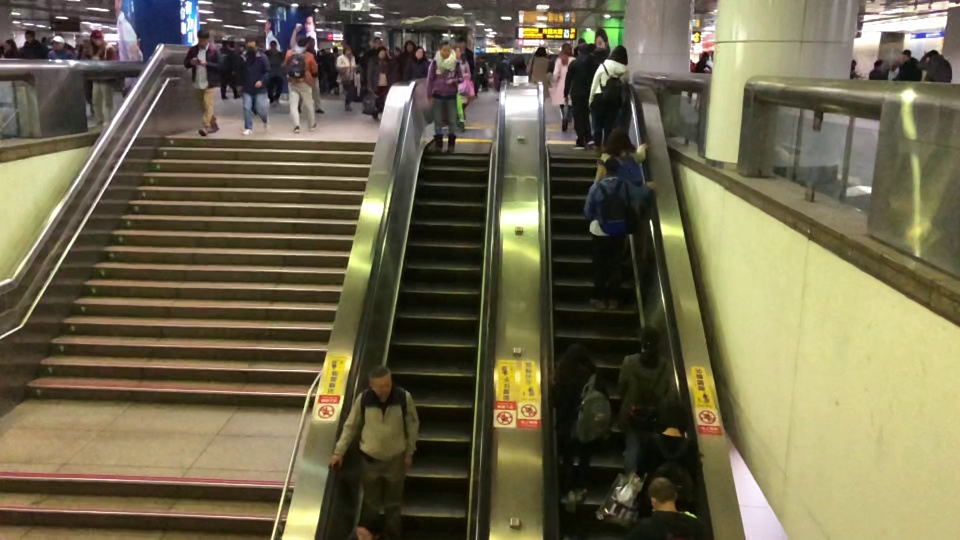person_head: (645, 474, 680, 512), (660, 395, 689, 437), (351, 509, 382, 539), (367, 363, 392, 400), (601, 126, 633, 154), (562, 343, 593, 370), (637, 324, 660, 350), (596, 156, 621, 178), (607, 44, 628, 64), (590, 45, 609, 63), (196, 27, 210, 48), (50, 35, 67, 52), (89, 29, 105, 47), (243, 32, 258, 51), (437, 39, 451, 58), (294, 34, 309, 49), (576, 40, 588, 58), (559, 42, 572, 57), (926, 48, 939, 63), (413, 44, 424, 60), (23, 29, 36, 42), (376, 46, 387, 61), (534, 46, 546, 58), (901, 49, 912, 62), (873, 57, 883, 70), (342, 44, 352, 56), (269, 39, 278, 52)
person_vbox: (325, 362, 419, 539), (582, 157, 655, 309), (548, 344, 611, 511), (616, 325, 677, 479), (632, 399, 700, 517), (628, 475, 708, 539), (589, 45, 630, 157), (182, 26, 224, 135), (424, 40, 464, 153), (570, 46, 609, 150), (234, 35, 271, 136), (84, 29, 120, 126), (563, 41, 596, 146), (592, 124, 647, 186), (286, 35, 319, 134), (549, 43, 576, 132), (366, 46, 398, 121), (264, 40, 286, 108), (335, 44, 357, 112), (524, 46, 550, 100), (915, 49, 952, 83), (401, 45, 430, 81), (892, 48, 922, 82), (20, 29, 49, 59), (50, 36, 77, 61), (867, 58, 889, 79)
